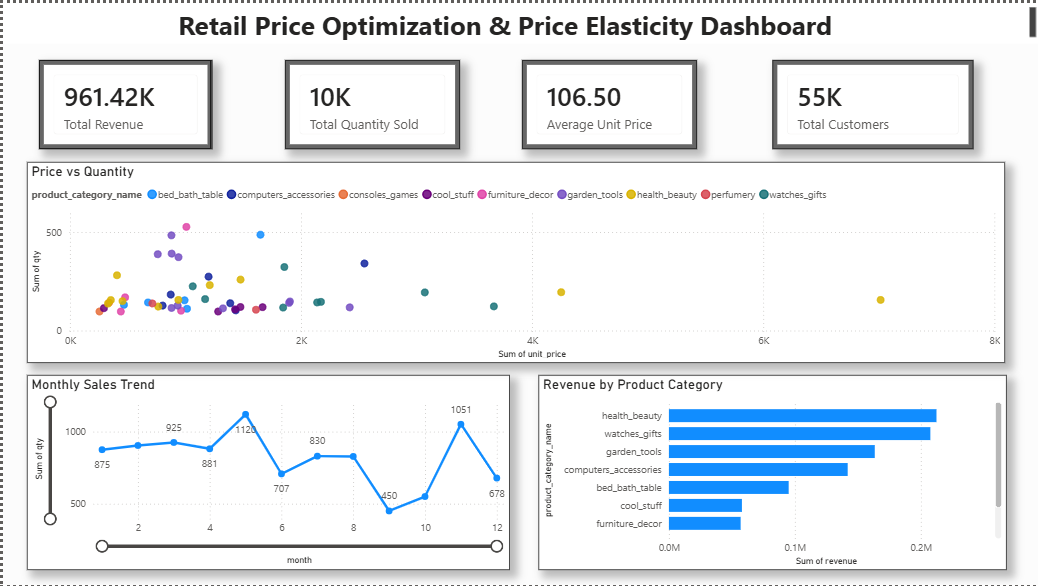

This screenshot's page, from the dashboard's own definition file:
{"tool":"powerbi","page":{"name":"Page 1","canvas":[1280,720],"ordinal":0},"visuals":[{"type":"textbox","box":[0,0,1280.5,49.7],"z":0},{"type":"cardVisual","fields":{"Data":["retail_price_final.Total Revenue"]},"box":[44,70,214,110],"z":1},{"type":"cardVisual","fields":{"Data":["retail_price_final.Total Quantity Sold"]},"box":[348,70,216,110],"z":2},{"type":"cardVisual","fields":{"Data":["retail_price_final.Average Unit Price"]},"box":[640,70,216,110],"z":3},{"type":"cardVisual","fields":{"Data":["retail_price_final.Total Customers"]},"box":[950,70,248,110],"z":4},{"type":"lineChart","title":"Monthly Sales Trend","fields":{"Category":["retail_price_final.month"],"Y":["Sum(retail_price_final.qty)"]},"box":[29.6,459.3,596.3,240.7],"z":5},{"type":"clusteredBarChart","title":"Revenue by Product Category","fields":{"Category":["retail_price_final.product_category_name"],"Y":["Sum(retail_price_final.revenue)"]},"box":[661.1,459.3,577.8,240.7],"z":6},{"type":"scatterChart","title":"Price vs Quantity","fields":{"X":["Sum(retail_price_final.unit_price)"],"Y":["Sum(retail_price_final.qty)"],"Series":["retail_price_final.product_category_name"],"Category":["retail_price_final.product_id"]},"box":[29.6,196.3,1207.4,248.1],"z":7}]}

Visuals, with their boxes in screenshot pixels (x1, y1, x2, y2), scaled from the page's 1280x720 canvas onto the 1038x586 screenshot:
textbox: Rect(0, 0, 1037, 40)
cardVisual - retail_price_final.Total Revenue: Rect(36, 57, 209, 146)
cardVisual - retail_price_final.Total Quantity Sold: Rect(282, 57, 457, 146)
cardVisual - retail_price_final.Average Unit Price: Rect(519, 57, 694, 146)
cardVisual - retail_price_final.Total Customers: Rect(770, 57, 972, 146)
"Monthly Sales Trend" lineChart: Rect(24, 374, 508, 570)
"Revenue by Product Category" clusteredBarChart: Rect(536, 374, 1005, 570)
"Price vs Quantity" scatterChart: Rect(24, 160, 1003, 362)
